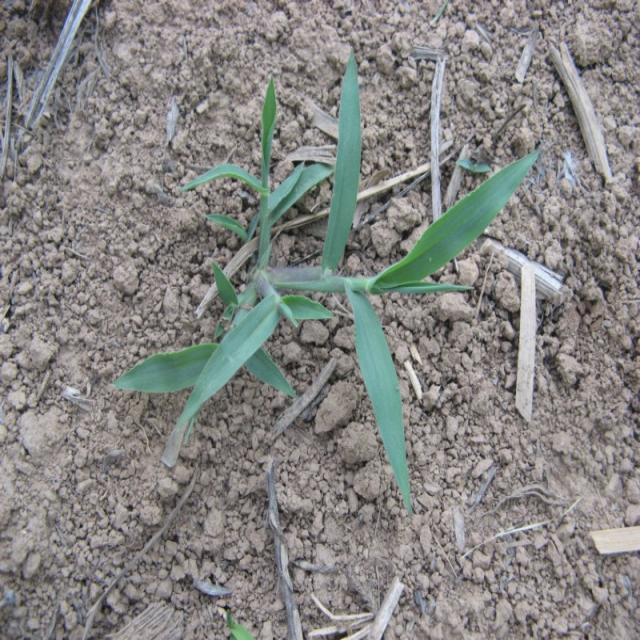bg: (110, 59, 539, 507)
